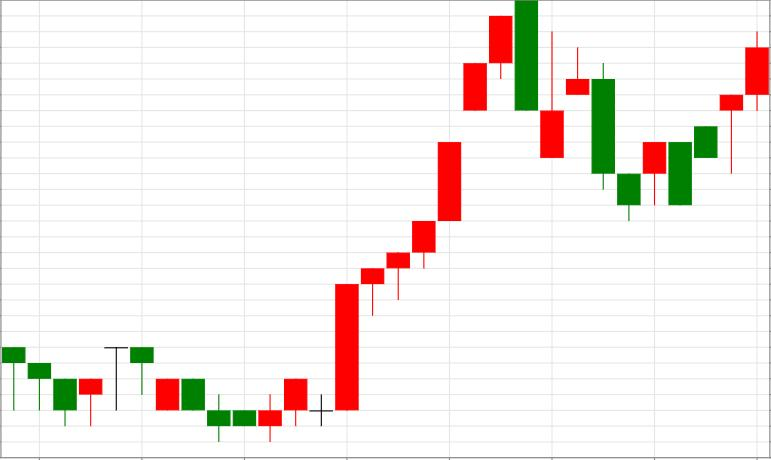bearish_engulfing_fall: (336, 0, 538, 411)
